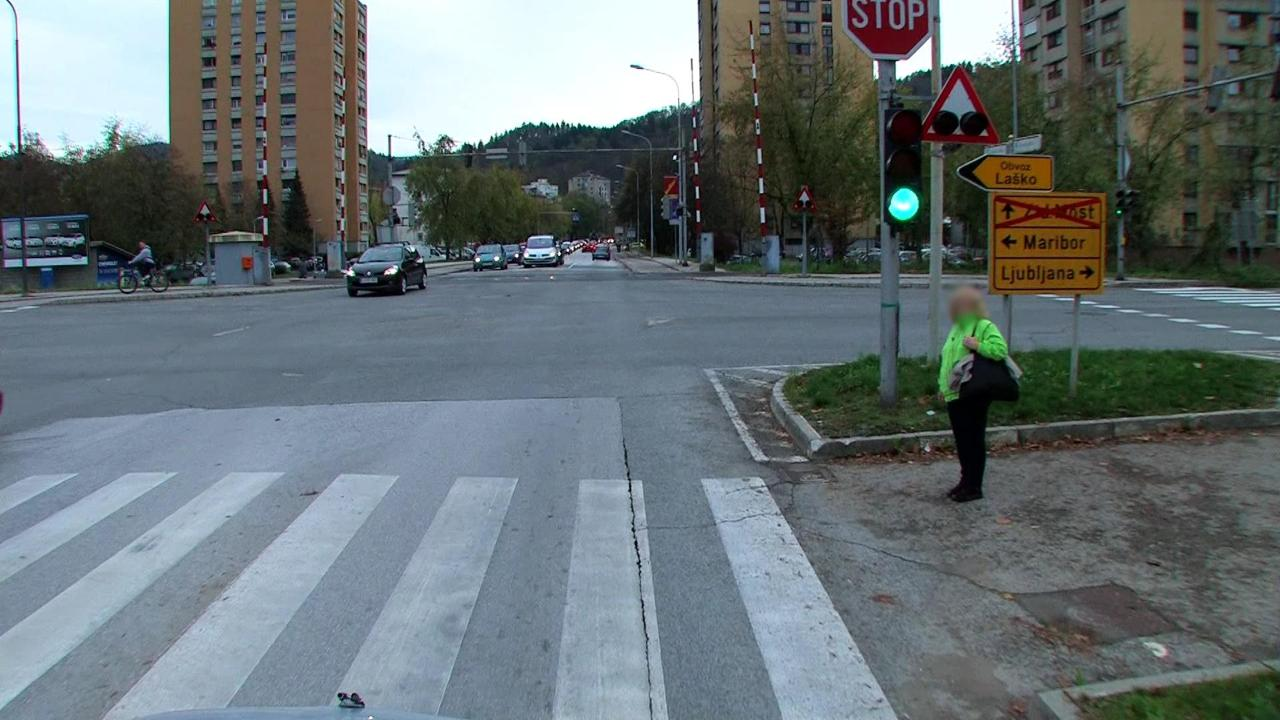Multi-inform: (989, 195, 1106, 296), (956, 154, 1056, 192)
Stop: (845, 0, 933, 60)
Triangle: (925, 68, 1001, 144), (792, 188, 820, 214), (195, 199, 219, 227)
